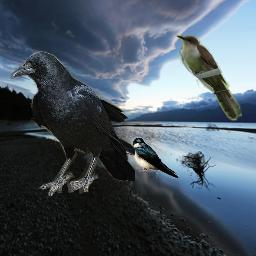Crow: (10, 51, 135, 196)
Cuckoo: (175, 33, 242, 121)
Swallow: (132, 137, 179, 179)
